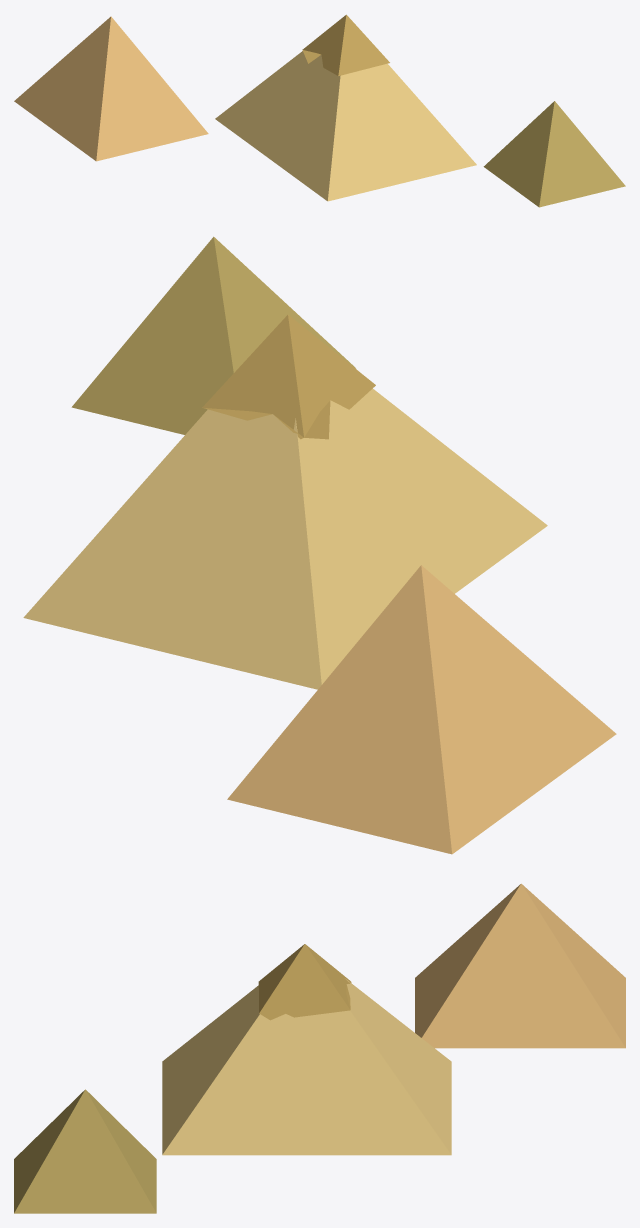
File: piramides.fbx
The picture shows the model from 3 angles, top to bottom: view 1: azimuth 30°, elevation 25°; view 2: azimuth 150°, elevation 25°; view 3: azimuth 270°, elevation 25°; orthographic projection. The views are drawn at different scales.
Parts seen in each view (by area): view 1: piramides.003, piramides.001, piramides.002, piramides.004; view 2: piramides.003, piramides.001, piramides.002, piramides.004; view 3: piramides.003, piramides.001, piramides.002, piramides.004.
Boxes of the visible parts, left/top/right/bottom form: piramides.003: left=215, top=51, right=476, bottom=201; piramides.001: left=14, top=16, right=208, bottom=161; piramides.002: left=483, top=101, right=625, bottom=207; piramides.004: left=302, top=14, right=389, bottom=75; piramides.003: left=23, top=388, right=547, bottom=689; piramides.001: left=227, top=565, right=616, bottom=854; piramides.002: left=71, top=236, right=355, bottom=434; piramides.004: left=202, top=315, right=375, bottom=439; piramides.003: left=162, top=978, right=451, bottom=1155; piramides.001: left=415, top=883, right=625, bottom=1048; piramides.002: left=14, top=1089, right=156, bottom=1213; piramides.004: left=258, top=944, right=351, bottom=1020.
Size of what is drawn, in the model's own units: 860 by 285 by 952.
